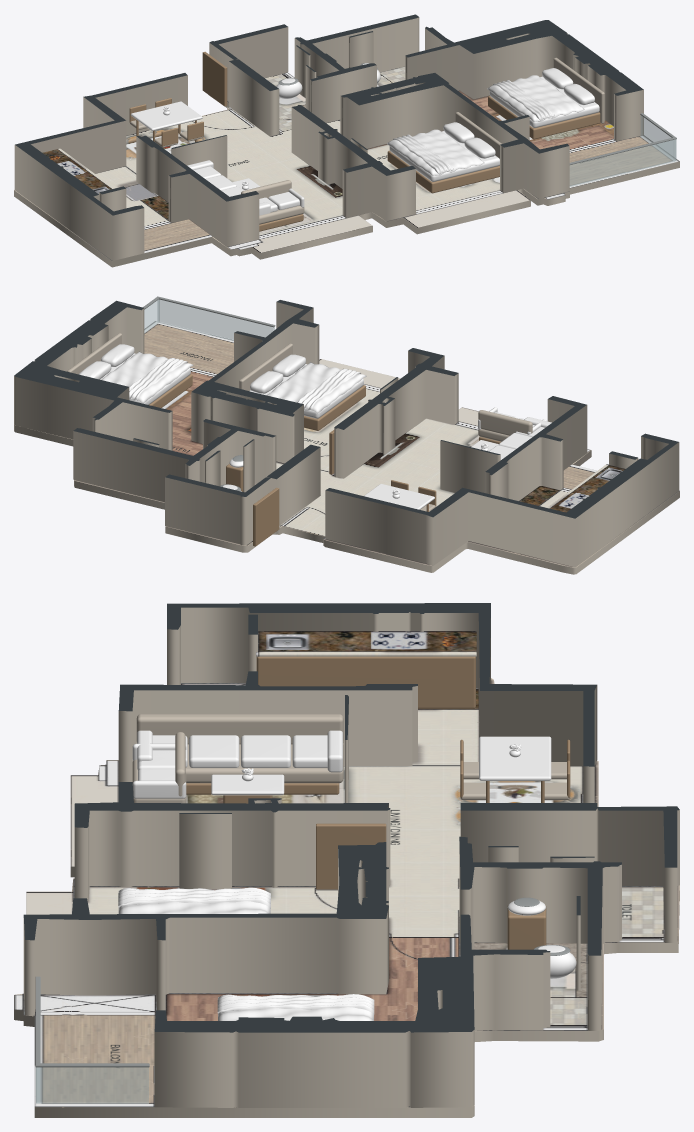
3 renders of one model, top to bottom at view 1: azimuth 30°, elevation 25°; view 2: azimuth 150°, elevation 25°; view 3: azimuth 270°, elevation 25°, orthographic. The views are drawn at different scales.
Parts seen in each view (by area): view 1: Partition walls, Apartment floor, Balcony glazing, Draped bed linen, Draped bed linen.002, Walnut upholstered base, Marble dining top, Walnut upholstered base.001, Open oak door, Stone worktop, Piped mattress, Piped mattress.001 (+11 smaller); view 2: Partition walls, Apartment floor, Balcony glazing, Draped bed linen, Draped bed linen.002, Open oak door, Stone worktop, Marble dining top, Sofa back.001, Draped bed linen.001, Draped bed linen.003, Walnut upholstered base (+7 smaller); view 3: Partition walls, Apartment floor, Kitchen cabinets, Stone worktop, Sofa back, Balcony glazing.001, Marble dining top, Open oak door.001, Draped bed linen.003, Draped bed linen.001, Upholstered sofa frame, Draped bed linen (+8 smaller).
Boxes of the visible parts, box(x1,y1,x2,y2) form: Partition walls: box(14, 14, 643, 260); Apartment floor: box(14, 66, 679, 267); Balcony glazing: box(569, 139, 675, 186); Draped bed linen: box(387, 129, 484, 175); Draped bed linen.002: box(487, 75, 584, 121); Walnut upholstered base: box(387, 150, 499, 193); Marble dining top: box(131, 101, 202, 130); Walnut upholstered base.001: box(488, 96, 600, 139); Open oak door: box(202, 51, 227, 106); Stone worktop: box(42, 148, 114, 193); Piped mattress: box(389, 131, 499, 181); Piped mattress.001: box(489, 76, 599, 127); Partition walls: box(14, 300, 679, 567); Apartment floor: box(14, 321, 679, 574); Balcony glazing: box(157, 299, 274, 340); Draped bed linen: box(266, 362, 366, 413); Draped bed linen.002: box(101, 351, 193, 403); Open oak door: box(253, 487, 279, 546); Stone worktop: box(547, 464, 625, 512); Marble dining top: box(364, 483, 434, 509); Sofa back.001: box(478, 410, 532, 435); Draped bed linen.001: box(297, 368, 360, 410); Draped bed linen.003: box(129, 358, 187, 400); Walnut upholstered base: box(304, 385, 365, 430); Partition walls: box(23, 603, 679, 1107); Apartment floor: box(14, 678, 679, 1117); Kitchen cabinets: box(256, 656, 475, 708); Stone worktop: box(256, 631, 476, 656); Sofa back: box(136, 714, 343, 744); Balcony glazing.001: box(36, 1067, 148, 1103); Marble dining top: box(479, 736, 551, 780); Open oak door.001: box(316, 823, 386, 889); Draped bed linen.003: box(217, 994, 374, 1014); Draped bed linen.001: box(118, 887, 270, 908); Upholstered sofa frame: box(185, 744, 343, 783); Draped bed linen: box(118, 888, 270, 913).
Bounding box in the file's own units: 13.94 × 1.3 × 9.12.
11 materials, 1 textured.
